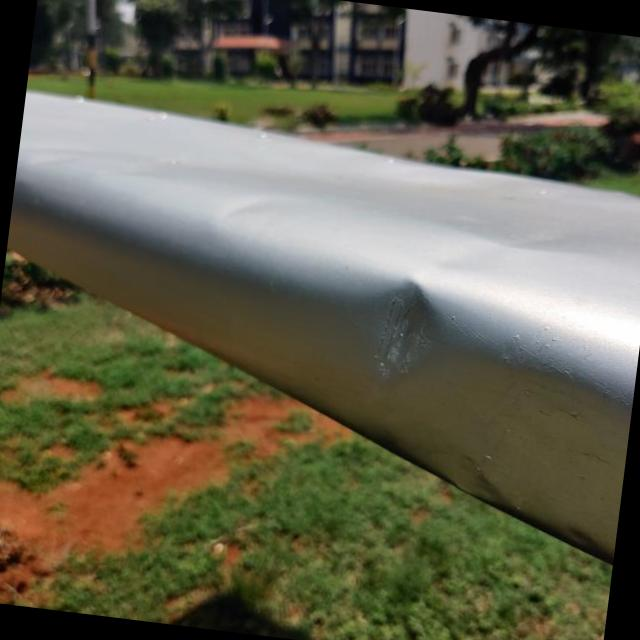Dent: (360, 280, 438, 382)
